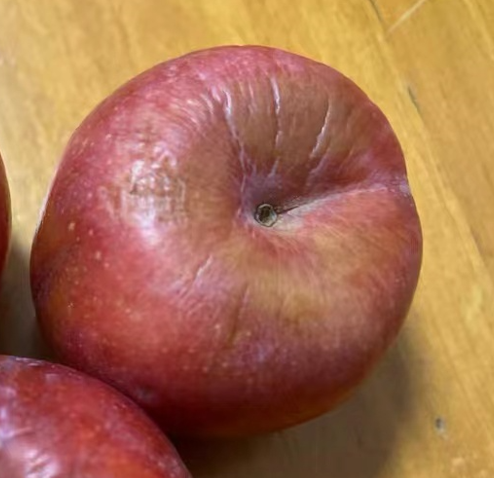plum_C: (29, 44, 423, 442)
